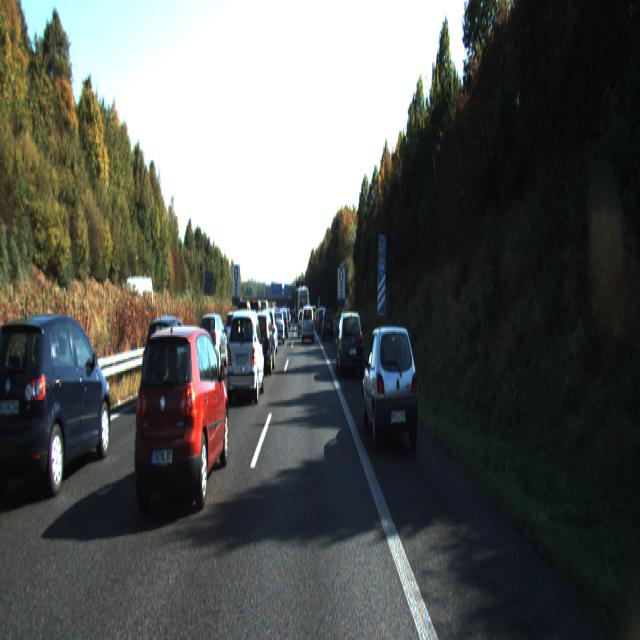Car: (0, 307, 113, 505), (127, 321, 230, 525), (361, 321, 420, 457), (225, 307, 265, 404), (119, 275, 155, 339), (196, 312, 228, 372), (336, 308, 364, 376), (248, 311, 276, 378), (225, 312, 247, 358), (302, 306, 315, 344), (272, 310, 286, 344), (323, 308, 335, 341), (318, 307, 328, 336)
